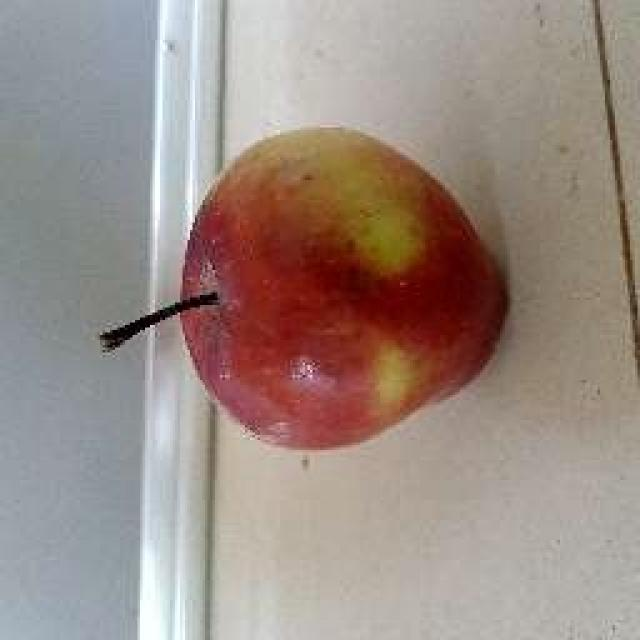Good_Apple: (122, 128, 510, 458)
